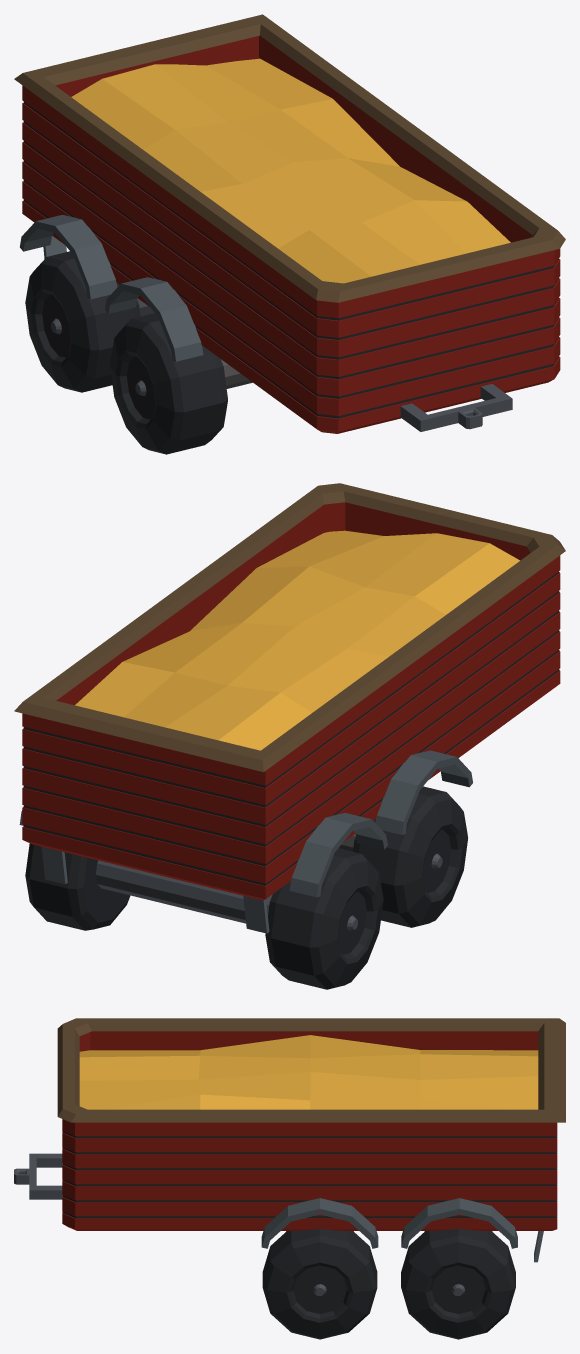
The model's file is Trailer_2.fbx.
3 views of the same model, one above another, from view 1: azimuth 30°, elevation 25°; view 2: azimuth 150°, elevation 25°; view 3: azimuth 270°, elevation 25° (orthographic). The views are drawn at different scales.
Visible parts, largest first — view 1: Trailer_2, FrontWheels_1, BackWheels_1; view 2: Trailer_2, BackWheels_1, FrontWheels_1; view 3: Trailer_2, FrontWheels_1, BackWheels_1.
Boxes of the visible parts, box(x1,y1,x2,y2) form: Trailer_2: box(14, 14, 565, 433); FrontWheels_1: box(110, 313, 227, 454); BackWheels_1: box(25, 251, 140, 392); Trailer_2: box(14, 483, 565, 933); BackWheels_1: box(25, 843, 383, 989); FrontWheels_1: box(353, 786, 467, 927); Trailer_2: box(14, 1018, 565, 1262); FrontWheels_1: box(262, 1228, 377, 1339); BackWheels_1: box(401, 1228, 515, 1339).
Bounding box in the file's own units: 227 × 188 × 433.
